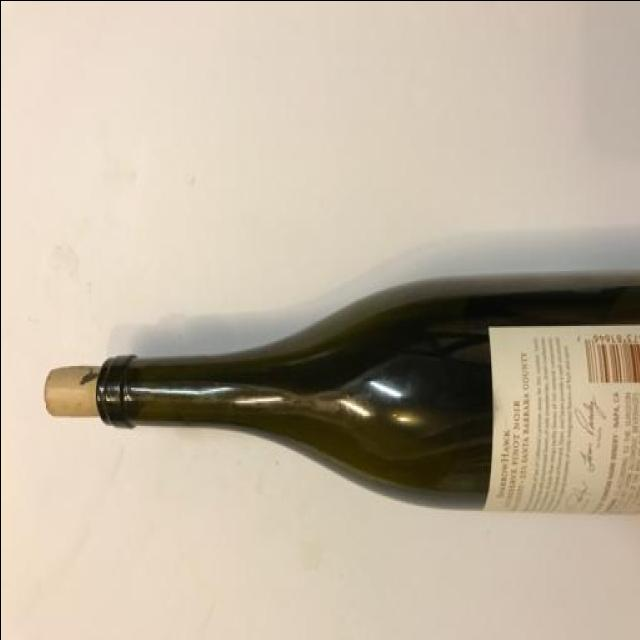glass: (43, 268, 640, 520)
